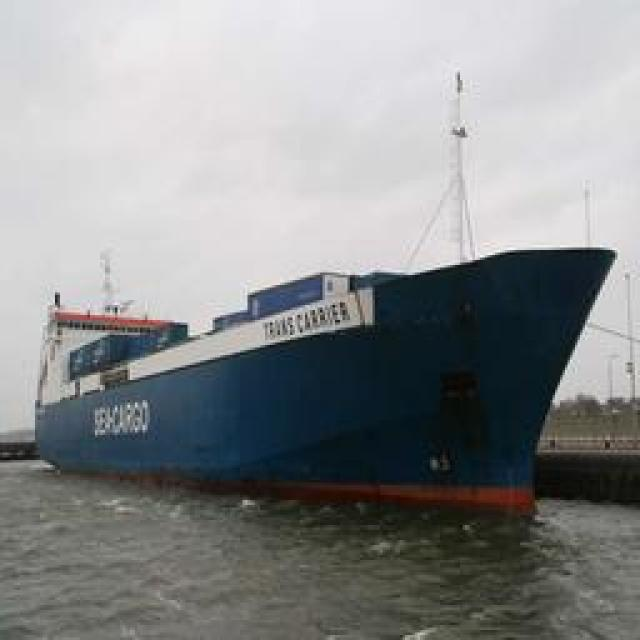CIV_Ship: (42, 239, 616, 509)
